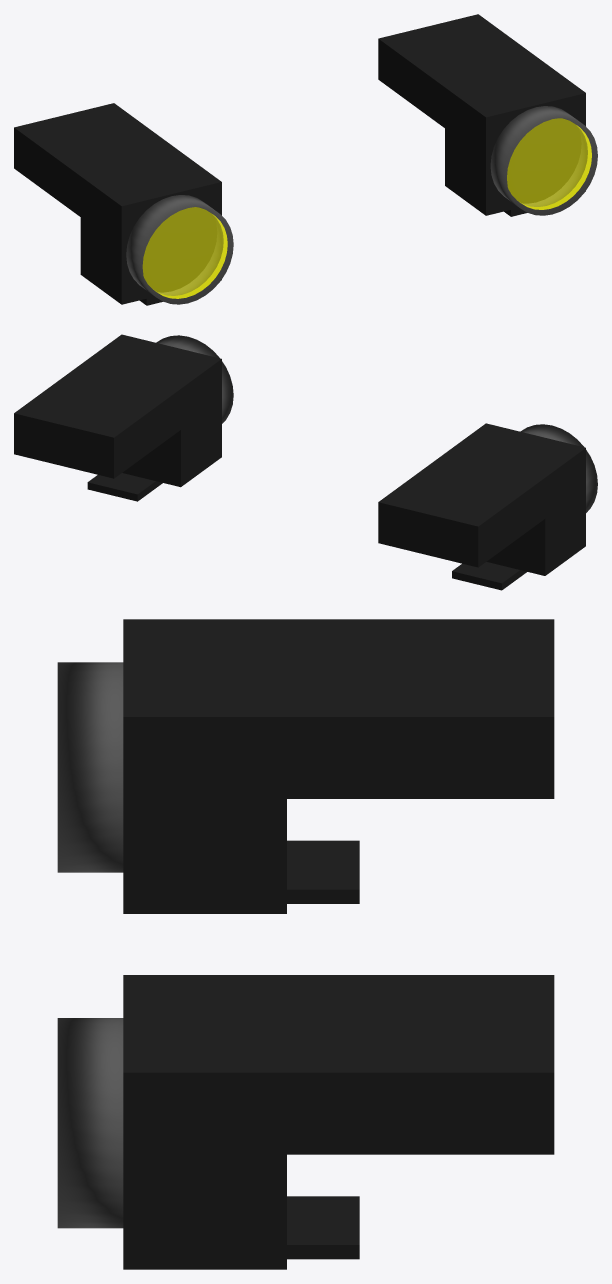
The model's file is Headlights.fbx.
3 renders of one model, top to bottom at view 1: azimuth 30°, elevation 25°; view 2: azimuth 150°, elevation 25°; view 3: azimuth 270°, elevation 25°, orthographic. The views are drawn at different scales.
Visible parts, largest first — view 1: Cube; view 2: Cube; view 3: Cube.
Part boxes in pixels (x1=…): Cube: x1=14, y1=14, x2=597, y2=305; Cube: x1=14, y1=334, x2=597, y2=590; Cube: x1=57, y1=619, x2=554, y2=1269.
Bounding box in the file's own units: 403 × 87.59 × 187.
